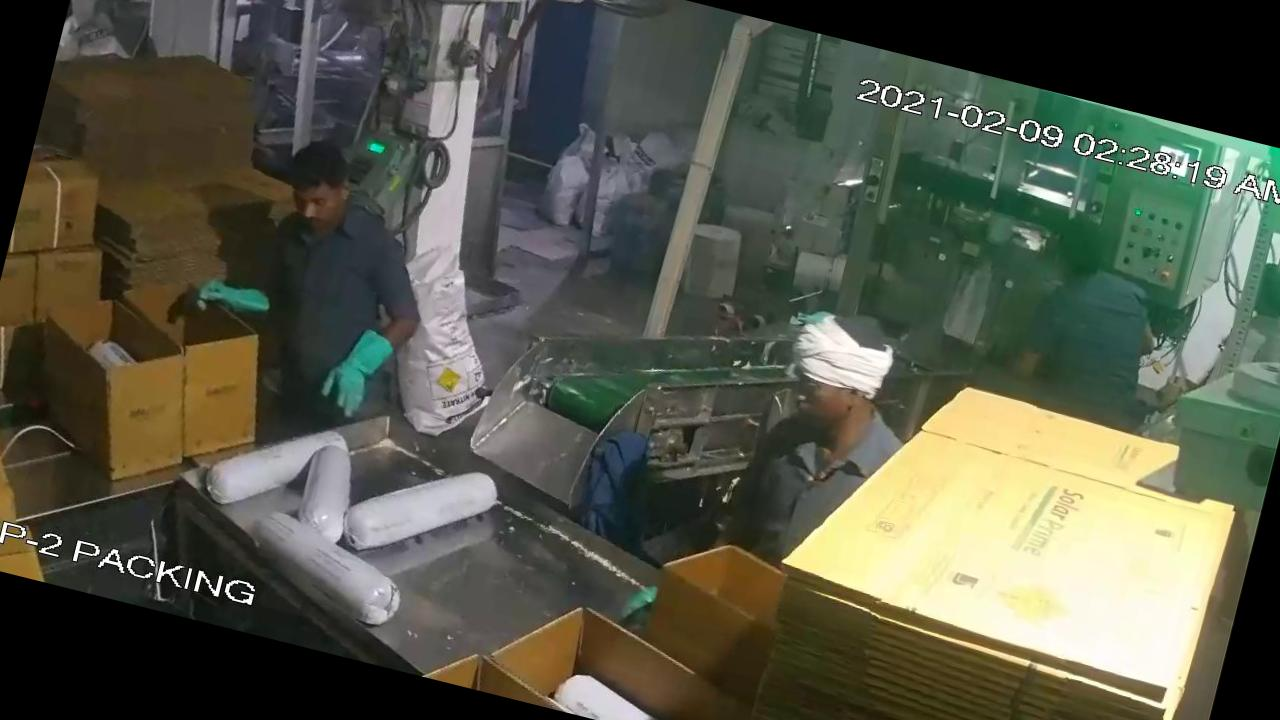Gloves: (318, 311, 401, 428), (170, 263, 284, 337)
